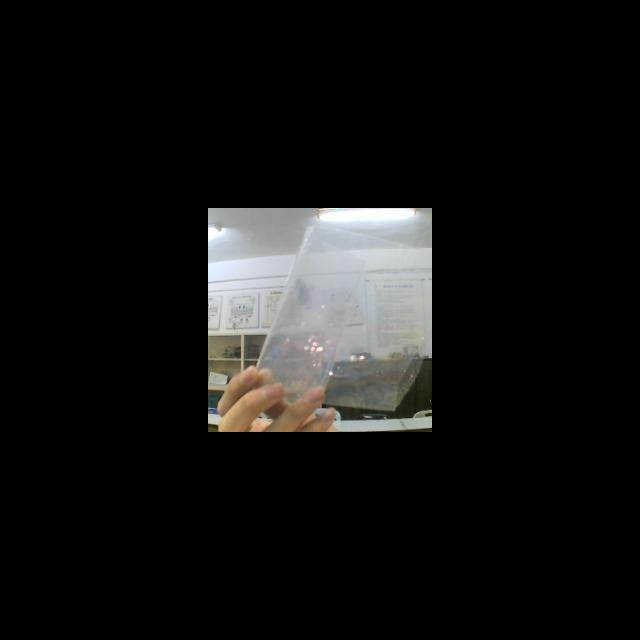plastic: (250, 225, 431, 412)
